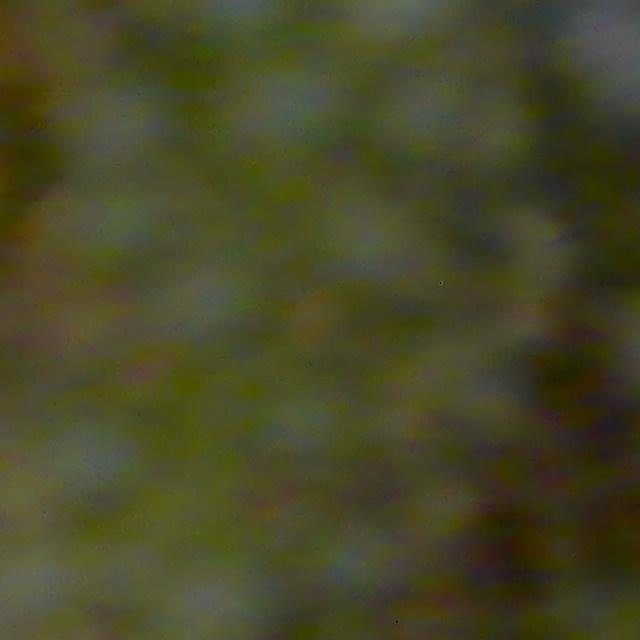SeaGrape: (225, 58, 356, 197), (74, 79, 206, 191), (171, 540, 296, 640), (382, 58, 478, 176), (345, 204, 445, 315), (310, 496, 410, 604), (53, 201, 167, 294), (157, 258, 264, 347), (253, 390, 346, 465), (474, 94, 528, 151)
